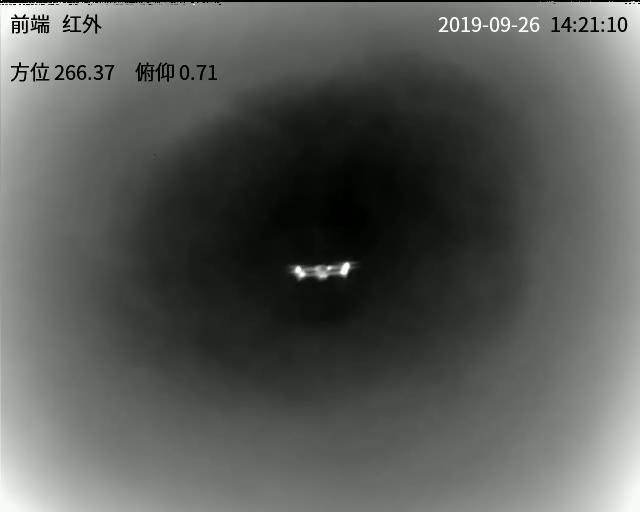uav: (287, 257, 356, 286)
